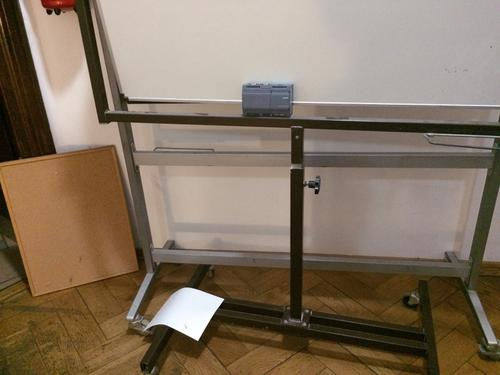iot2000: (241, 82, 295, 119)
